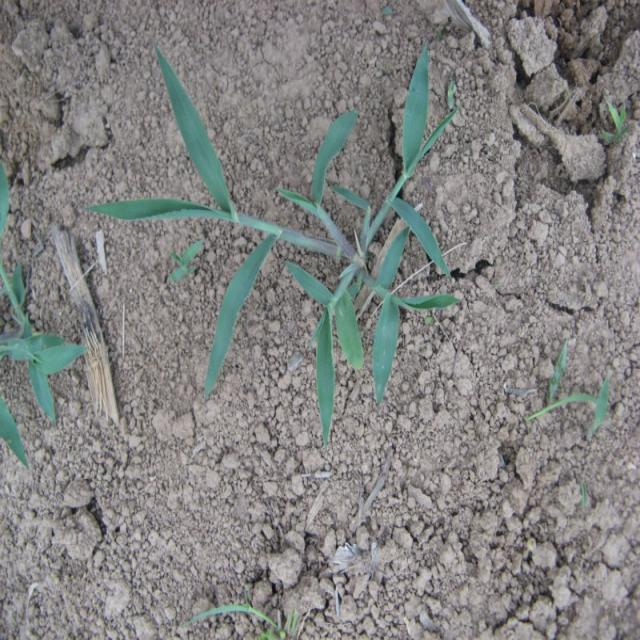bg: (82, 42, 476, 436)
